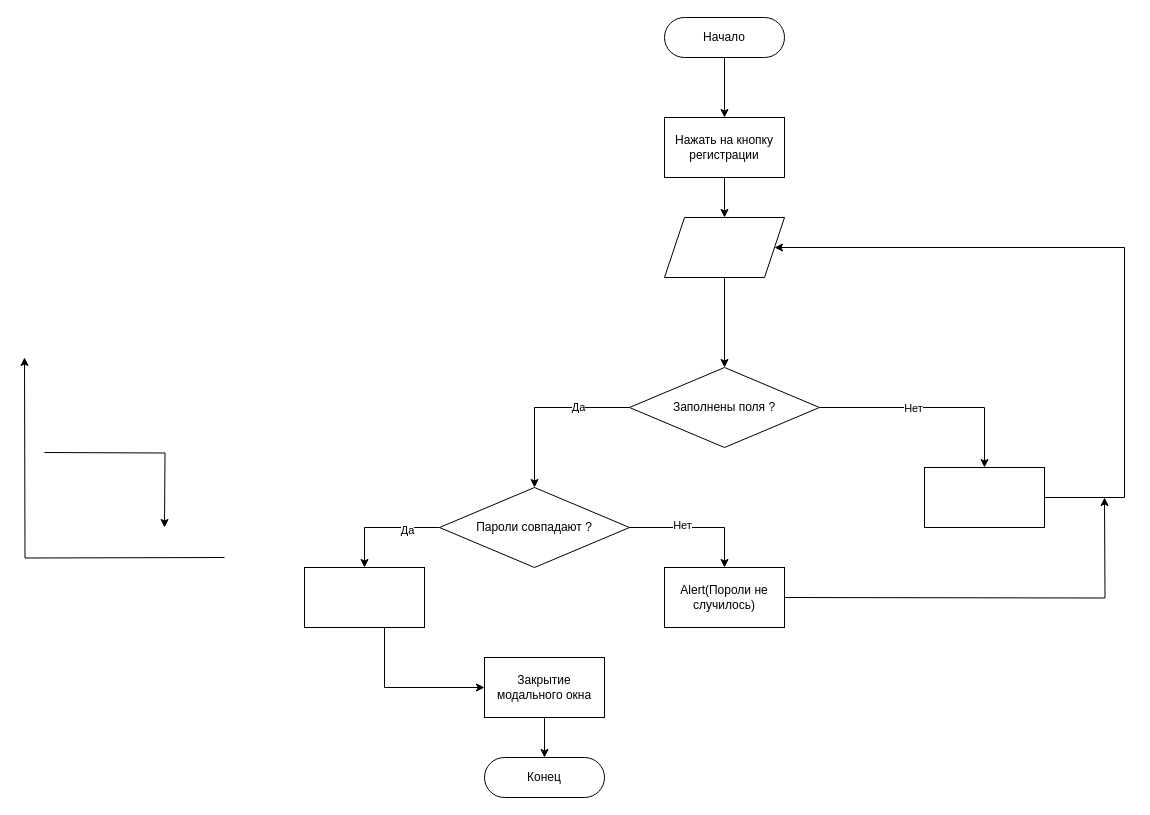
Some shapes in this 1150 by 815 pixel diagram are drawn without their labels. The centre of each missing label's shape, as x and y in pixels:
Alert (Заполните все поля): [984,497]
Alert(Успех!): [364,597]
Заполнение полей: [724,247]
